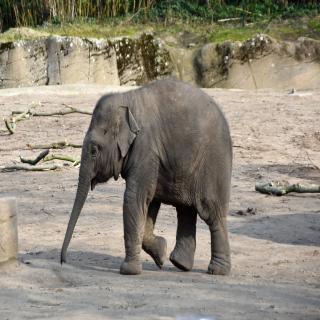Elephant: (58, 76, 238, 280)
